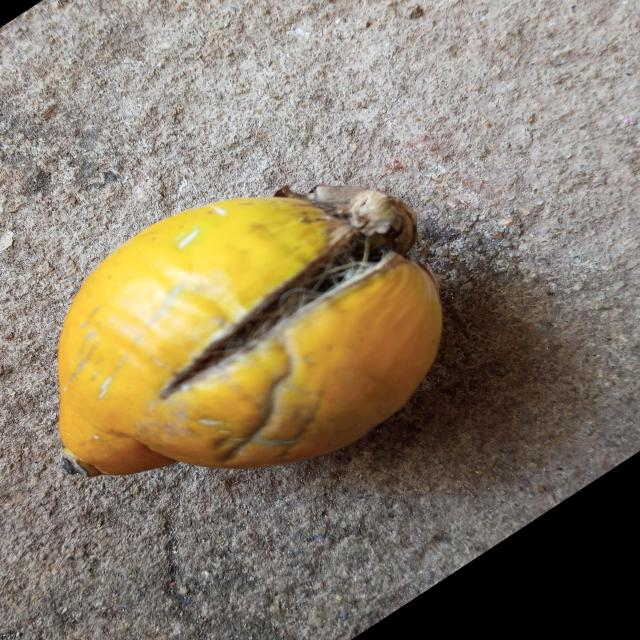damaged: (57, 190, 444, 478)
